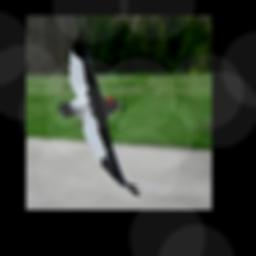Woodpecker: (57, 29, 139, 197)
